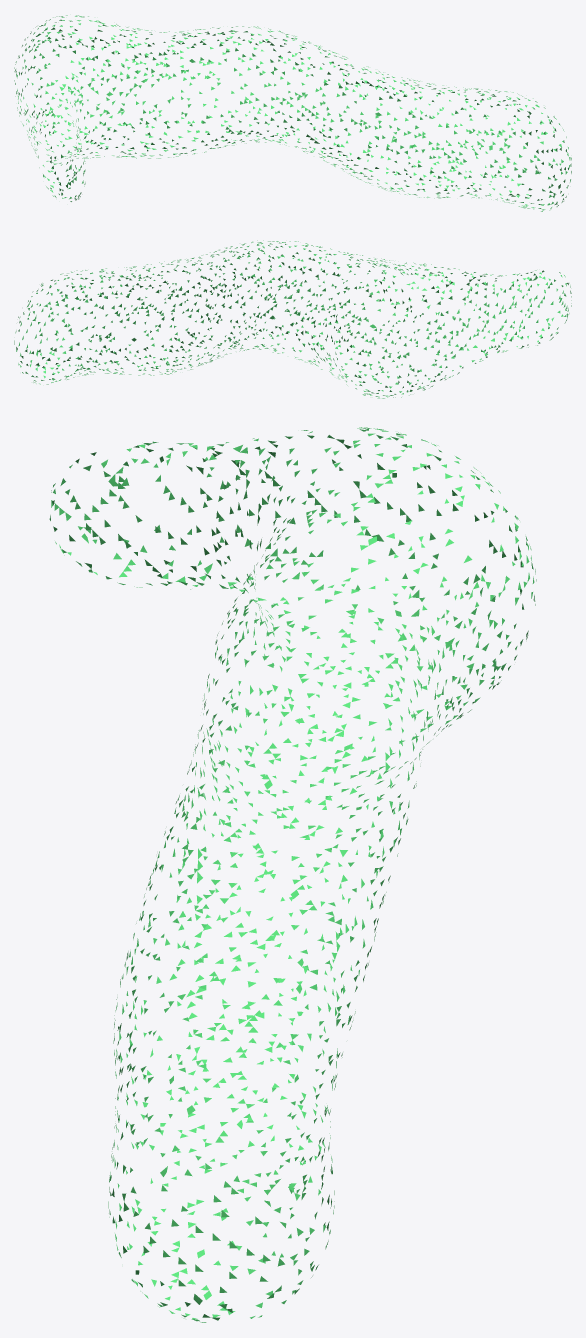
Rendered from morph_020.glb.
3 views of the same model, one above another, from view 1: azimuth 30°, elevation 25°; view 2: azimuth 150°, elevation 25°; view 3: azimuth 270°, elevation 25° (orthographic). The views are drawn at different scales.
Bounding box in the file's own units: 101 × 46 × 42.13.
